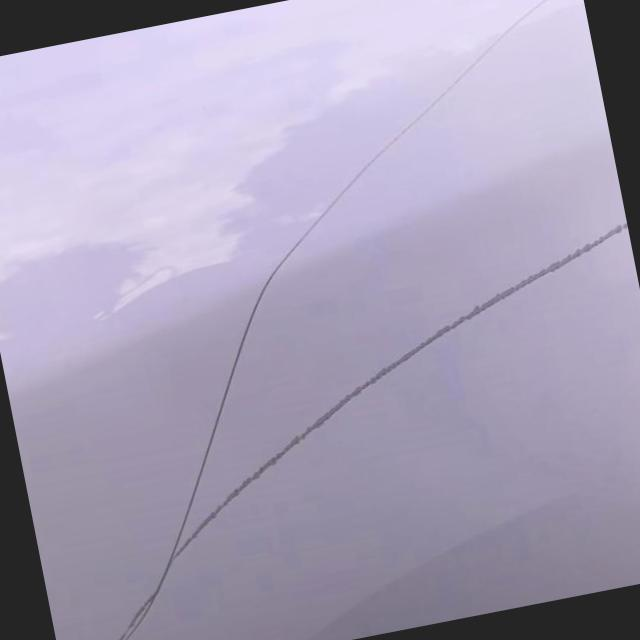crack: (176, 0, 561, 351), (241, 192, 640, 468)
